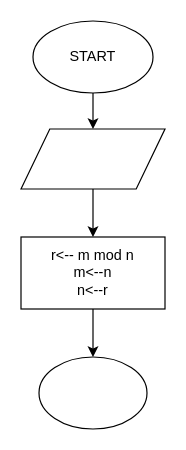
Image size: 186x450. Some labels were removed from this diagram. Here are the shapes that lost their labels. From the top down, the centre of each, then its label:
At point 92,158: "input m,n".
At point 92,392: "END".
